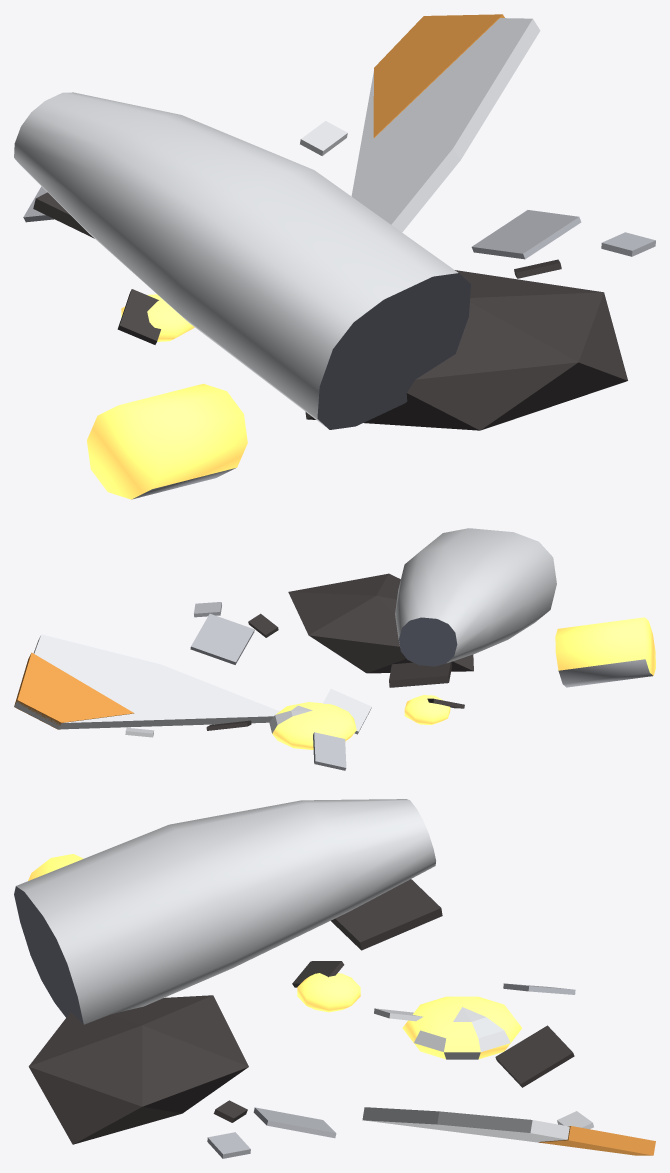
The model's file is wreck.glb.
3 views of the same model, one above another, from view 1: azimuth 30°, elevation 25°; view 2: azimuth 150°, elevation 25°; view 3: azimuth 270°, elevation 25° (orthographic). The views are drawn at different scales.
Visible parts, largest first — view 1: Wreck; view 2: Wreck; view 3: Wreck.
Boxes of the visible parts, x1,y1,x2,y2 form: Wreck: (14,14,655,499); Wreck: (14,528,655,770); Wreck: (14,799,655,1158).
Bounding box in the file's own units: 10.35 × 3.6 × 9.63.
